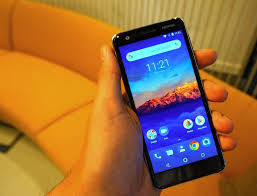nokia: (106, 17, 228, 188)
